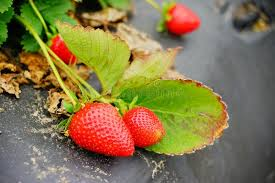ripe: (62, 96, 134, 163), (120, 100, 170, 156), (40, 30, 87, 72), (163, 3, 202, 38)
